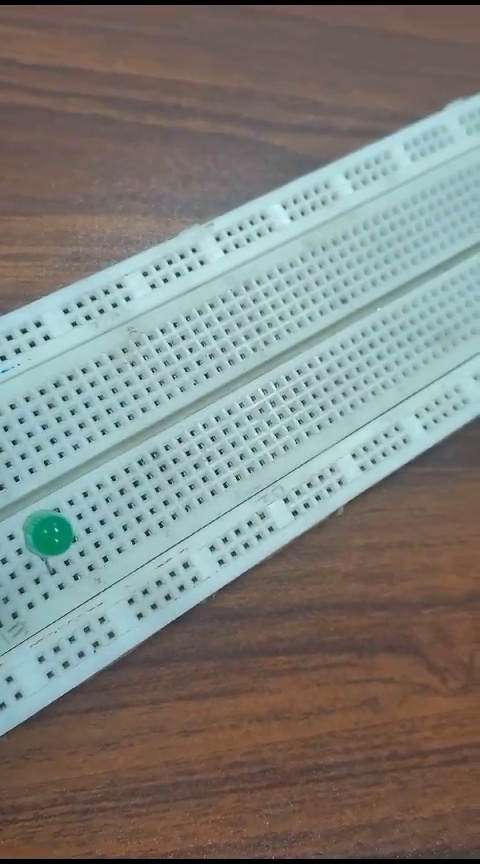LED: (19, 507, 72, 571)
